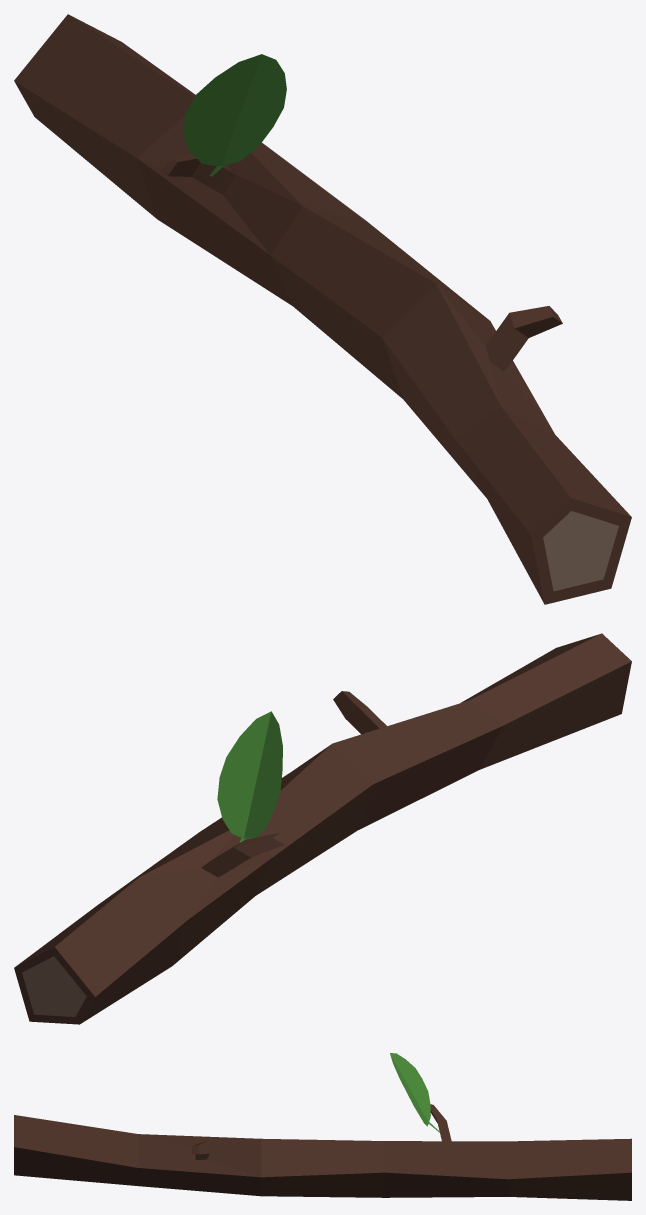
Rendered from wood_stick.glb.
The picture shows the model from 3 angles, top to bottom: view 1: azimuth 30°, elevation 25°; view 2: azimuth 150°, elevation 25°; view 3: azimuth 270°, elevation 25°; orthographic projection. The views are drawn at different scales.
Parts seen in each view (by area): view 1: Stick, Leaf; view 2: Stick, Leaf; view 3: Stick, Leaf.
Part boxes in pixels (<box>): Stick: <box>14,14,631,604</box>; Leaf: <box>182,54,286,176</box>; Stick: <box>14,633,631,1024</box>; Leaf: <box>217,711,282,842</box>; Stick: <box>14,1104,631,1200</box>; Leaf: <box>390,1053,439,1132</box>.
Bounding box in the file's own units: 0.2337 × 0.2643 × 1.15.
